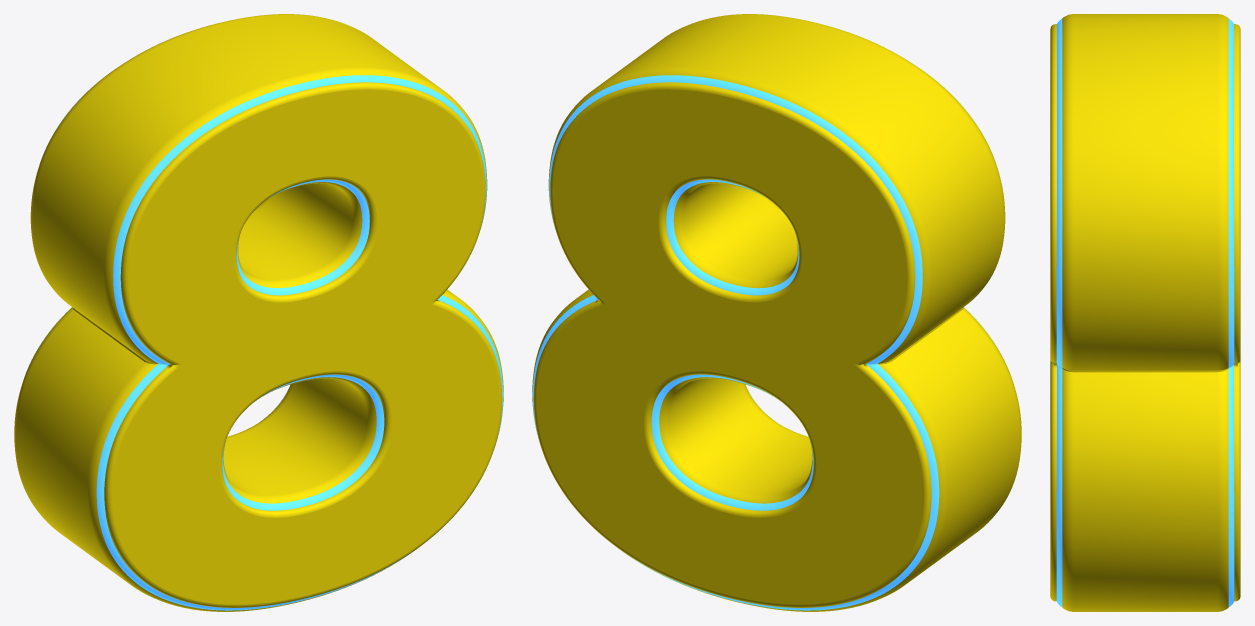
Rendered from eight.fbx.
3 renders of one model, left to right at view 1: azimuth 30°, elevation 25°; view 2: azimuth 150°, elevation 25°; view 3: azimuth 270°, elevation 25°, orthographic.
Visible parts, largest first — view 1: Object_8; view 2: Object_8; view 3: Object_8.
Part boxes in pixels (x1=…): Object_8: x1=14, y1=14, x2=503, y2=611; Object_8: x1=532, y1=14, x2=1021, y2=611; Object_8: x1=1050, y1=14, x2=1240, y2=611.
Bounding box in the file's own units: 2579 × 3128 × 1011.
